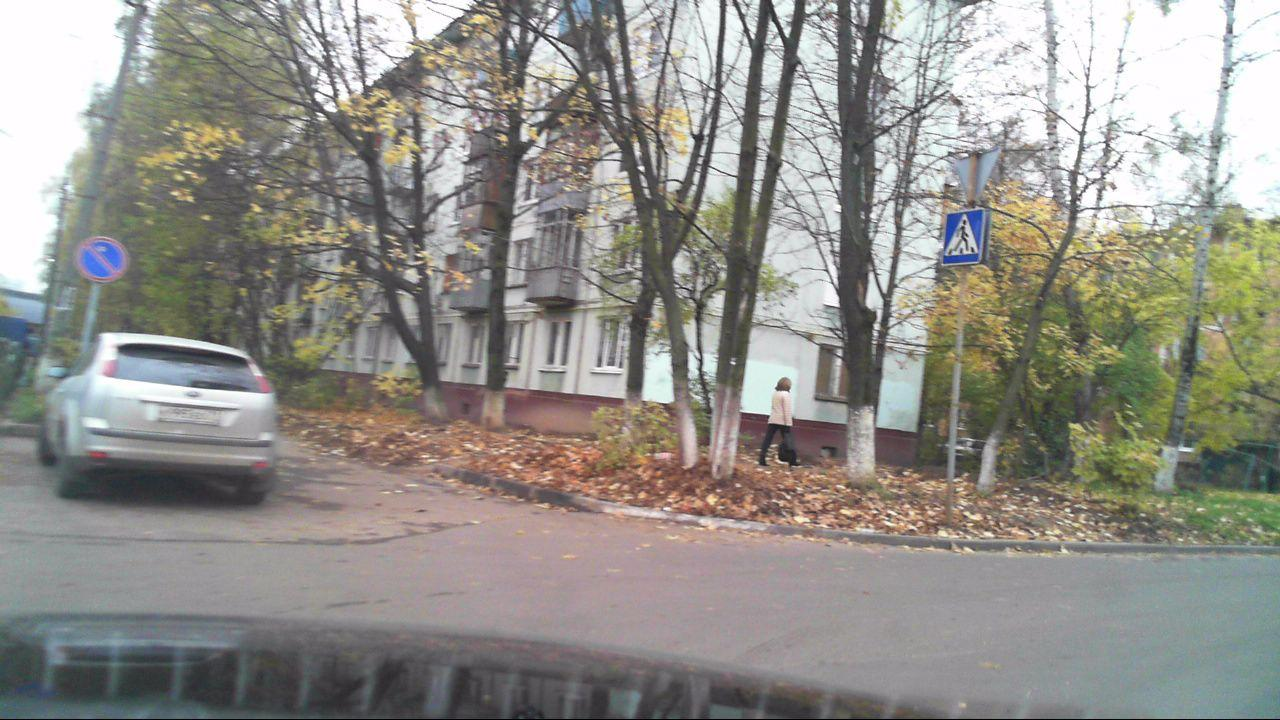3_28: (76, 236, 129, 283)
5_19_2: (936, 207, 991, 267)
